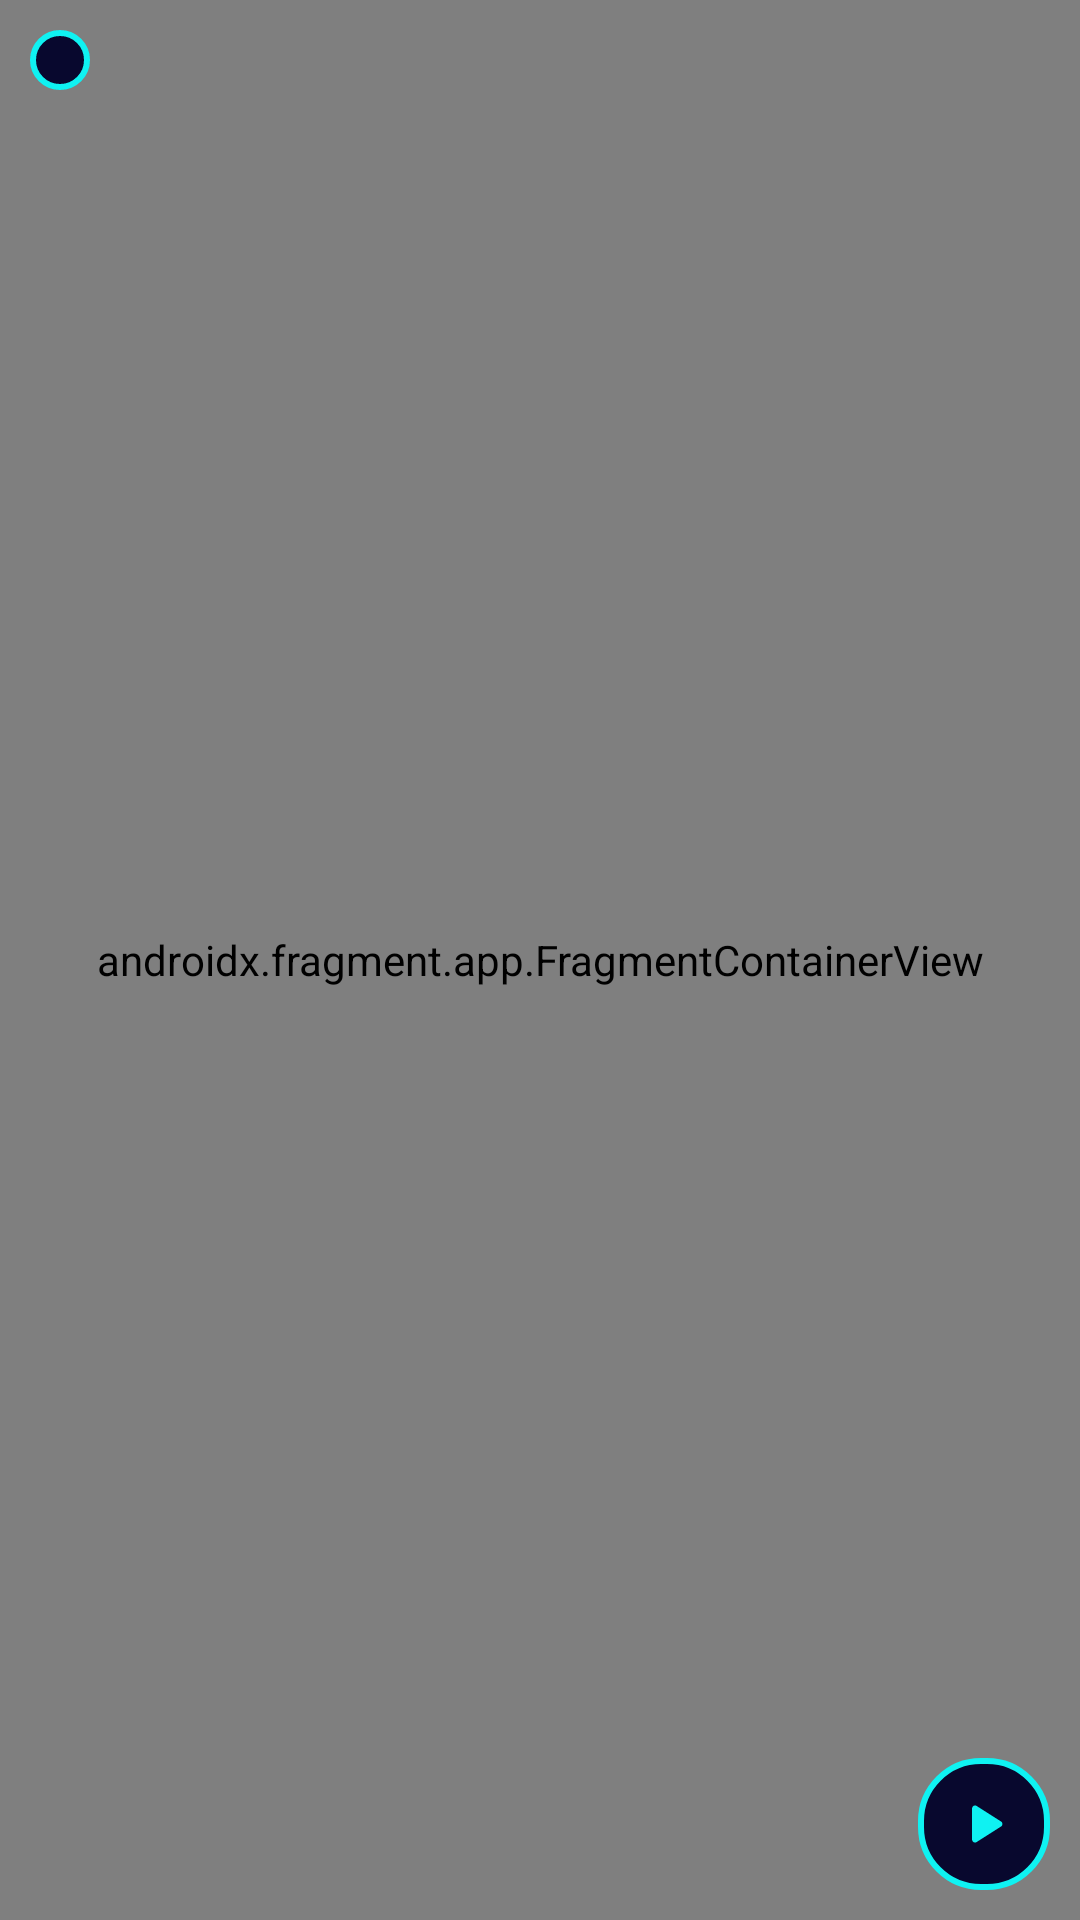

Named icons in this screenshot (1080*1920) and their bounding boxes, [x1, y1, x2, y2]:
play: [918, 1758, 1050, 1890]
